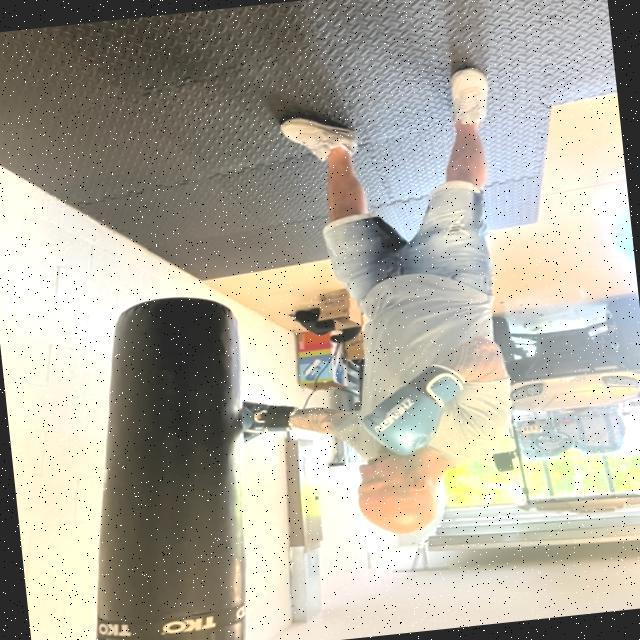hook: (207, 314, 530, 562)
